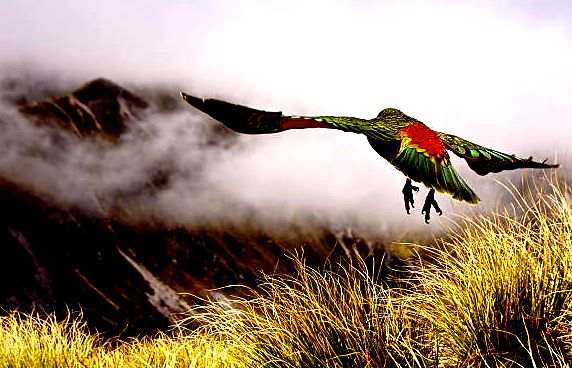Bird: (176, 88, 562, 228)
